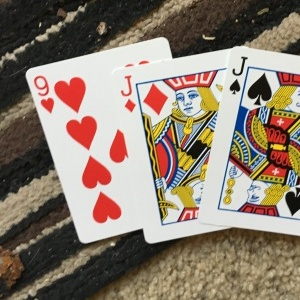card: (114, 51, 228, 246), (20, 53, 126, 247)
